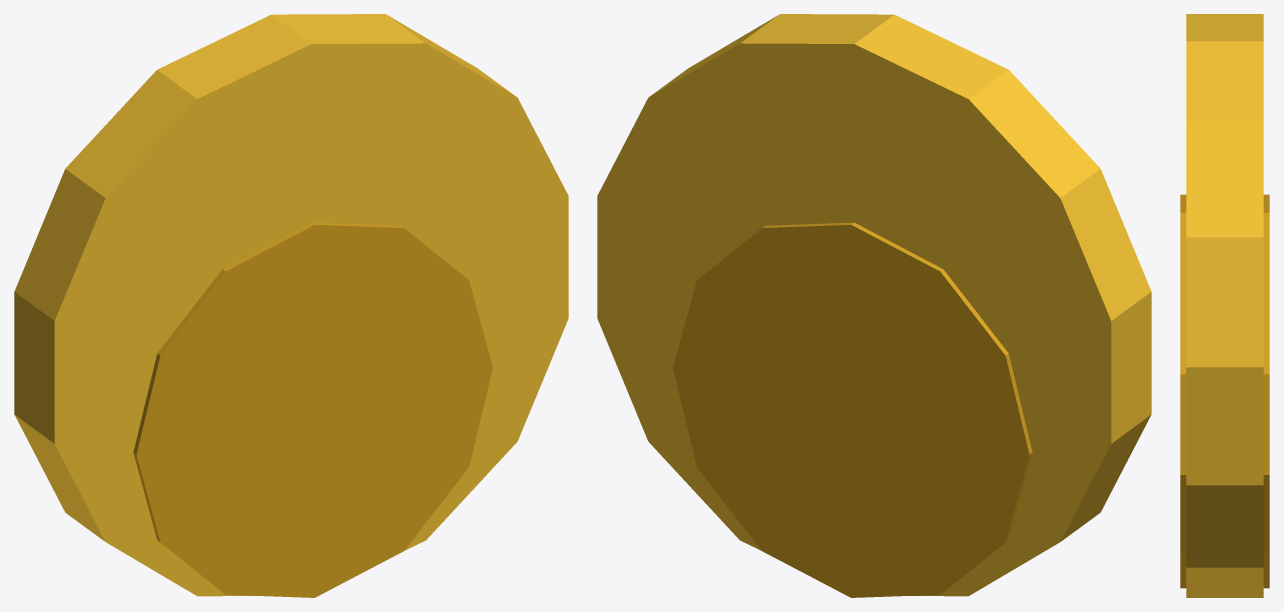
File: coin.glb
The picture shows the model from 3 angles, left to right: view 1: azimuth 30°, elevation 25°; view 2: azimuth 150°, elevation 25°; view 3: azimuth 270°, elevation 25°; orthographic projection. The views are drawn at different scales.
Parts seen in each view (by area): view 1: coin_disc, coin_face; view 2: coin_disc, coin_face; view 3: coin_disc, coin_face.
Part boxes in pixels (x1,y1,x2,y2): coin_disc: [14, 14, 568, 596]; coin_face: [133, 222, 492, 597]; coin_disc: [597, 14, 1151, 596]; coin_face: [673, 222, 1032, 597]; coin_disc: [1186, 14, 1263, 597]; coin_face: [1180, 194, 1269, 588].
Bounding box in the file's own units: 0.3315 × 0.34 × 0.052.
